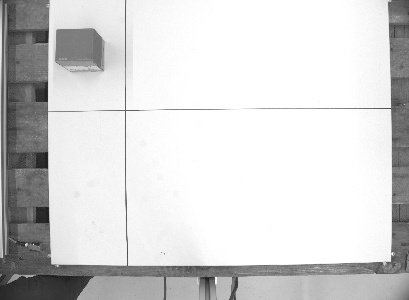b7: (52, 26, 108, 73)
